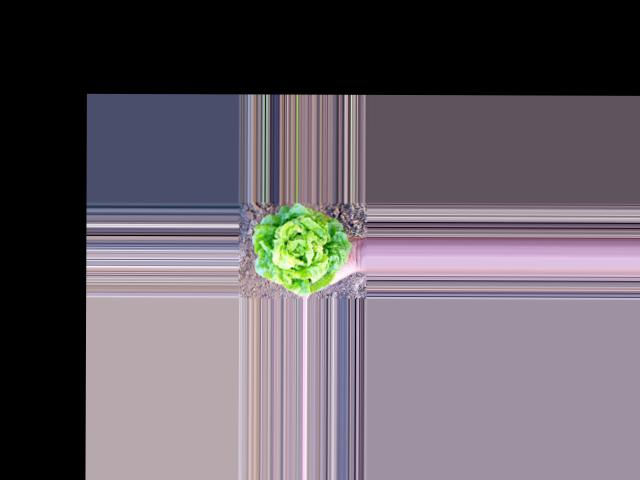lettuce: (250, 205, 344, 293)
